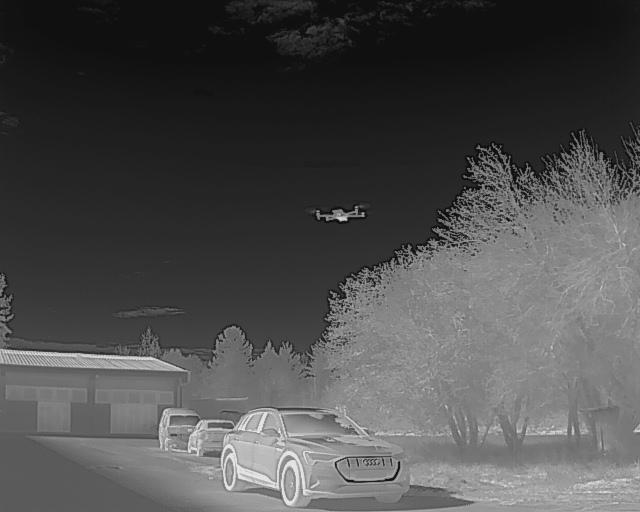drone: (307, 200, 370, 231)
